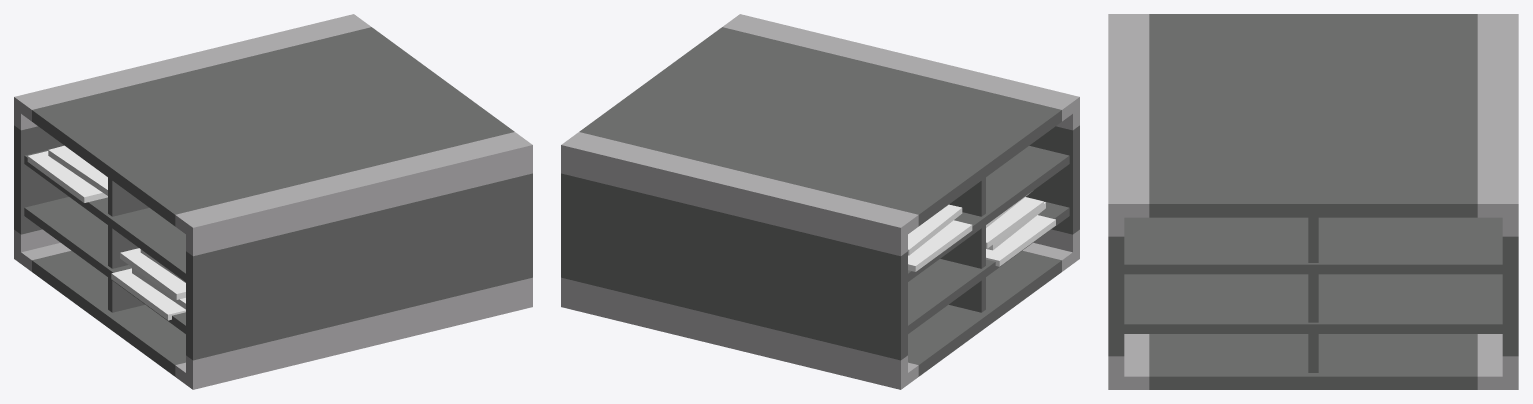
The model's file is SM_Document_Organizer_01.glb.
3 views of the same model, side by side, from view 1: azimuth 30°, elevation 25°; view 2: azimuth 150°, elevation 25°; view 3: azimuth 270°, elevation 25° (orthographic). The views are drawn at different scales.
Parts seen in each view (by area): view 1: SM_Document_Organizer_01; view 2: SM_Document_Organizer_01; view 3: SM_Document_Organizer_01.
Boxes of the visible parts, x1,y1,x2,y2 form: SM_Document_Organizer_01: (14, 14, 532, 389); SM_Document_Organizer_01: (561, 14, 1079, 389); SM_Document_Organizer_01: (1108, 14, 1518, 389).
Size of the model in its own units: 0.4096 by 0.1864 by 0.373.
1 material, 1 textured.
